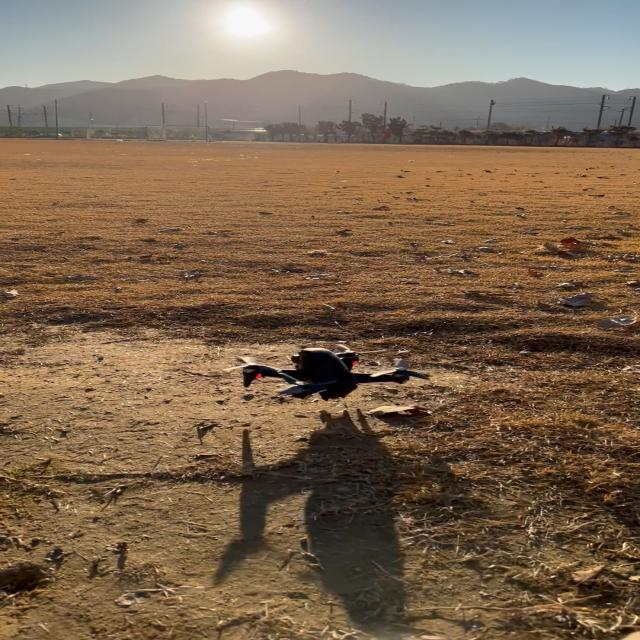Drone: (243, 343, 415, 394)
